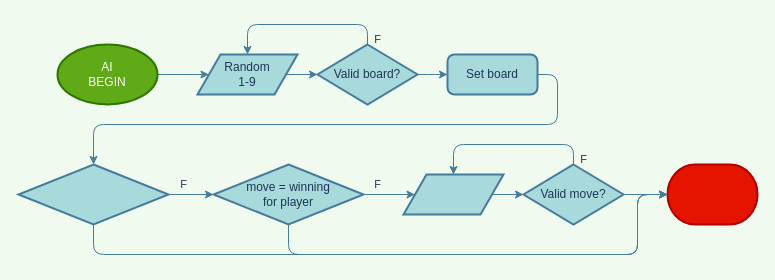
The diagram is 775 pixels wide and 280 high, and some of its shapes have lost their labels. The shapes that lost their labels are listed below. From the top down, each one's centre as x and y in pixels, then its label:
At point 93,194: "move = winning for AI".
At point 453,194: "move = random 1-9".
At point 712,194: "END".
